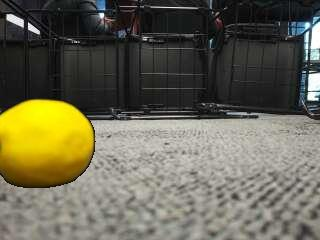lemon: (1, 99, 94, 187)
